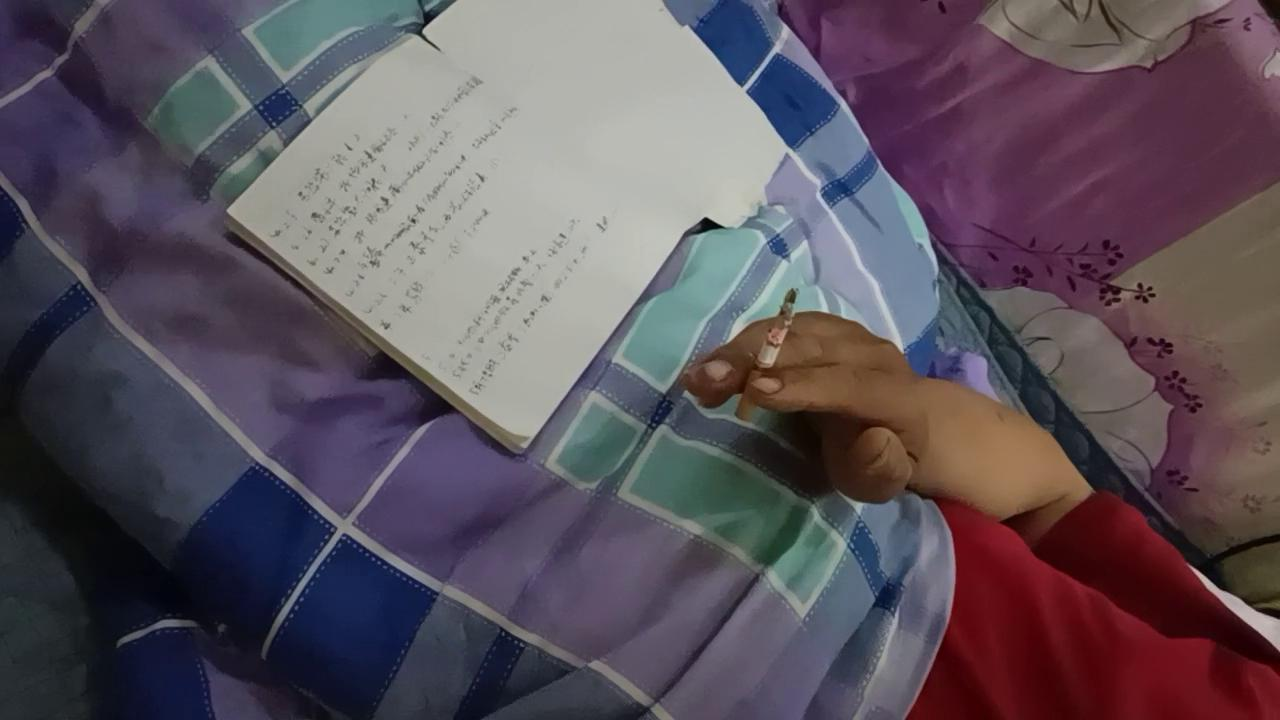smoke: (733, 289, 799, 423)
